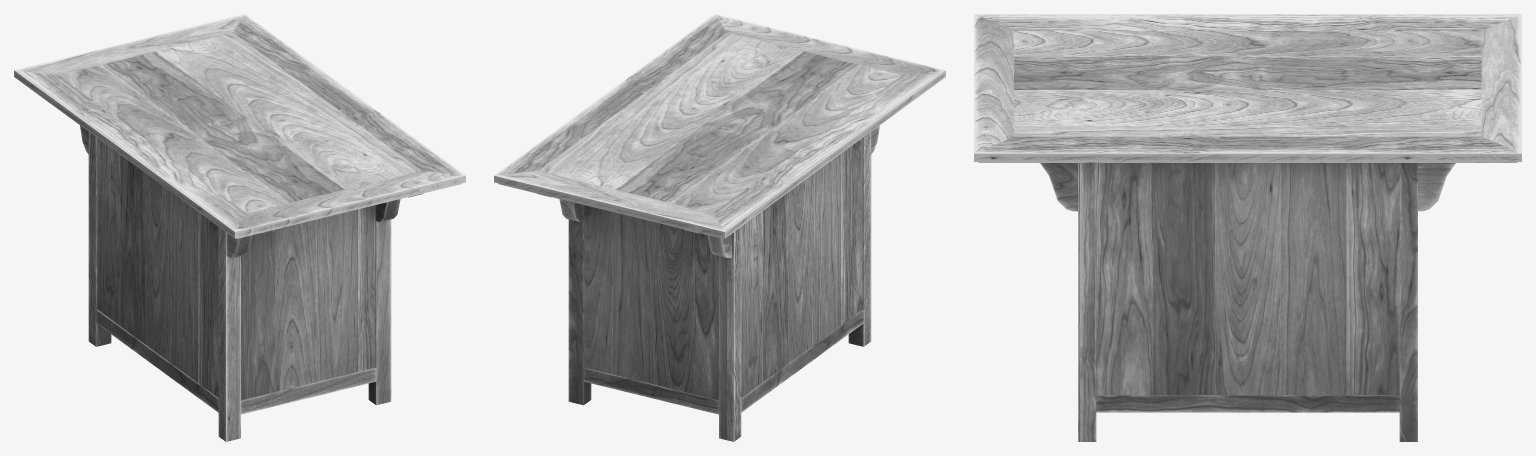
The model's file is 3D_LFR_M022_Desk1.fbx.
3 views of the same model, side by side, from view 1: azimuth 30°, elevation 25°; view 2: azimuth 150°, elevation 25°; view 3: azimuth 270°, elevation 25° (orthographic). The views are drawn at different scales.
Parts seen in each view (by area): view 1: M022_Desk1_001; view 2: M022_Desk1_001; view 3: M022_Desk1_001.
Boxes of the visible parts, x1,y1,x2,y2 form: M022_Desk1_001: (14,14,465,441); M022_Desk1_001: (494,14,945,441); M022_Desk1_001: (974,14,1521,441).
Bounding box in the file's own units: 0.7284 × 0.7497 × 1.21.
